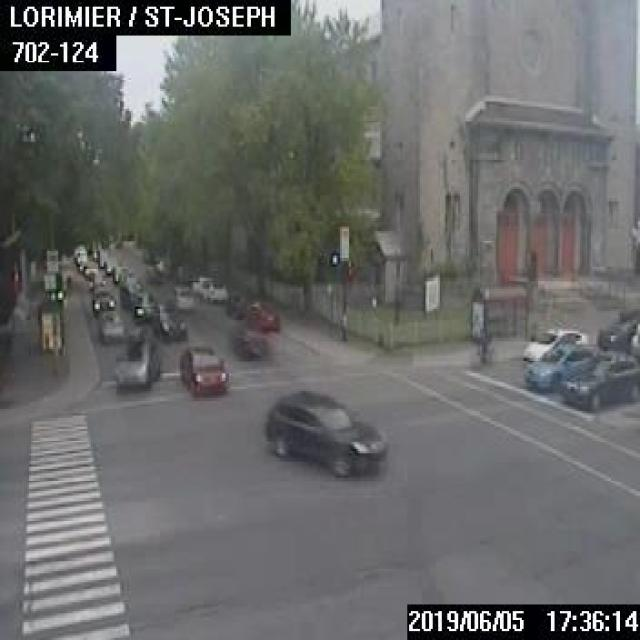vehicle: (264, 388, 387, 476), (562, 351, 638, 410), (522, 343, 598, 390), (178, 344, 227, 396), (113, 335, 158, 387), (523, 327, 586, 359), (596, 308, 638, 351), (151, 302, 185, 340), (228, 324, 265, 356), (245, 300, 278, 330), (96, 310, 123, 340), (130, 291, 155, 320), (223, 290, 247, 318), (90, 286, 114, 312), (201, 281, 226, 302), (173, 284, 193, 309), (190, 275, 212, 293), (86, 271, 103, 287), (112, 264, 125, 281), (104, 256, 117, 272), (83, 261, 96, 274), (78, 258, 90, 270), (74, 249, 85, 262), (91, 248, 98, 258)
